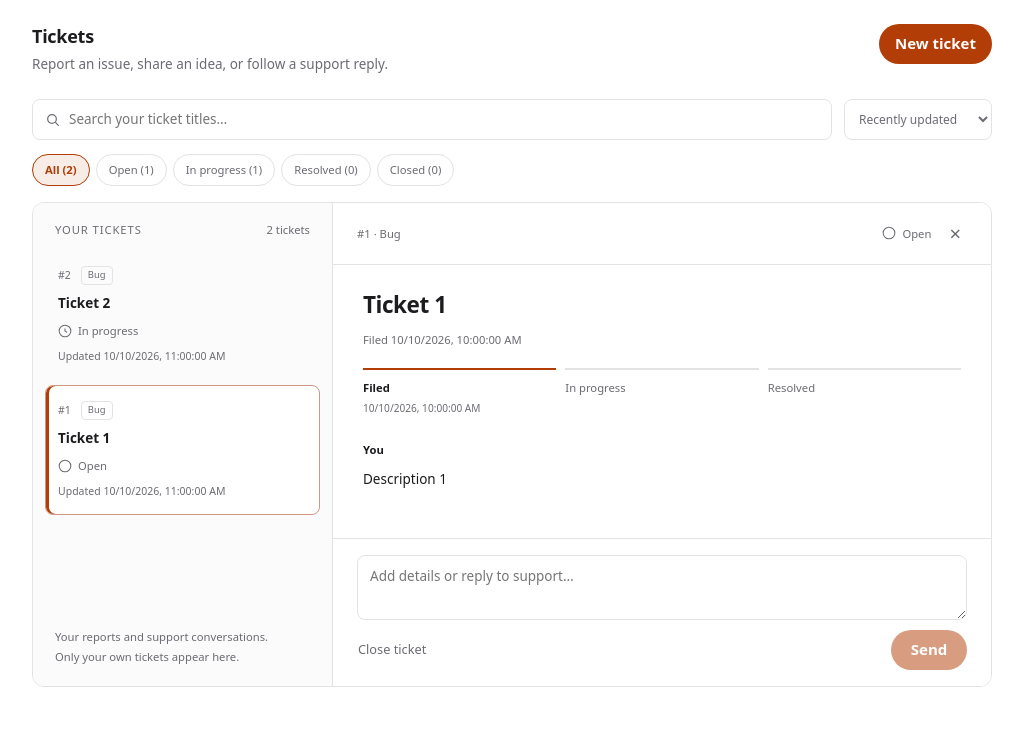
TicketsView › loads an unread update on the selected ticket without clearing a reply
This screenshot has width=1024, height=742.
Type "A reply in progress" into the text box named "Reply" at (662, 587), box [357, 554, 967, 620]
Wait 30000 ms
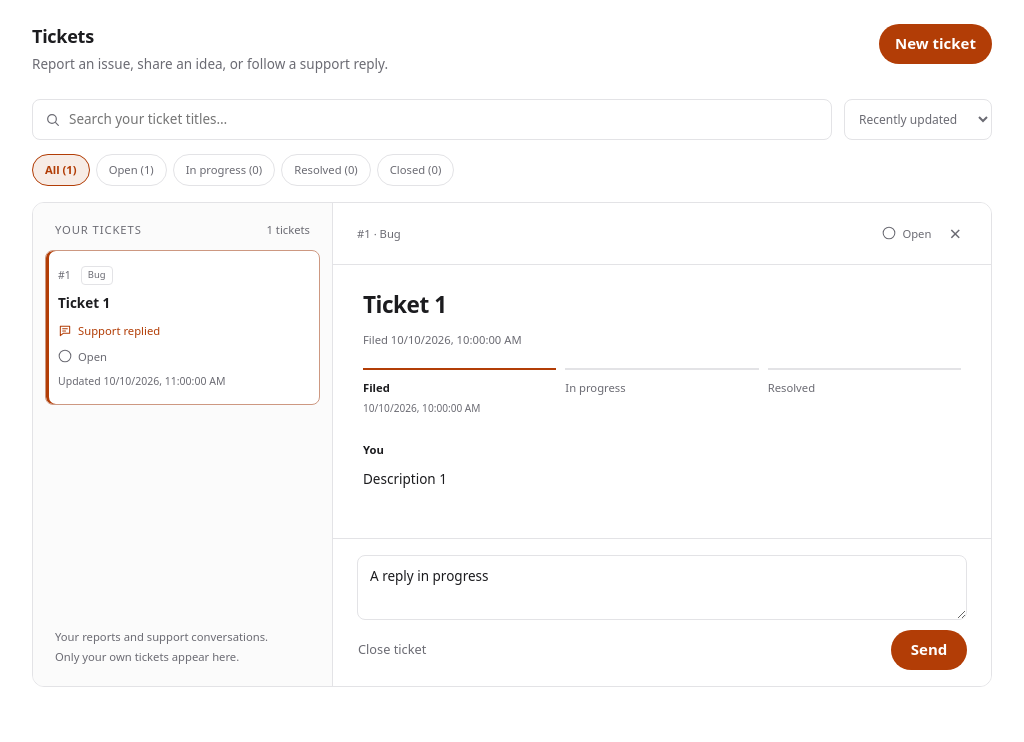
Click the button with class "ticket-row" at (97, 275), box [45, 250, 320, 406]
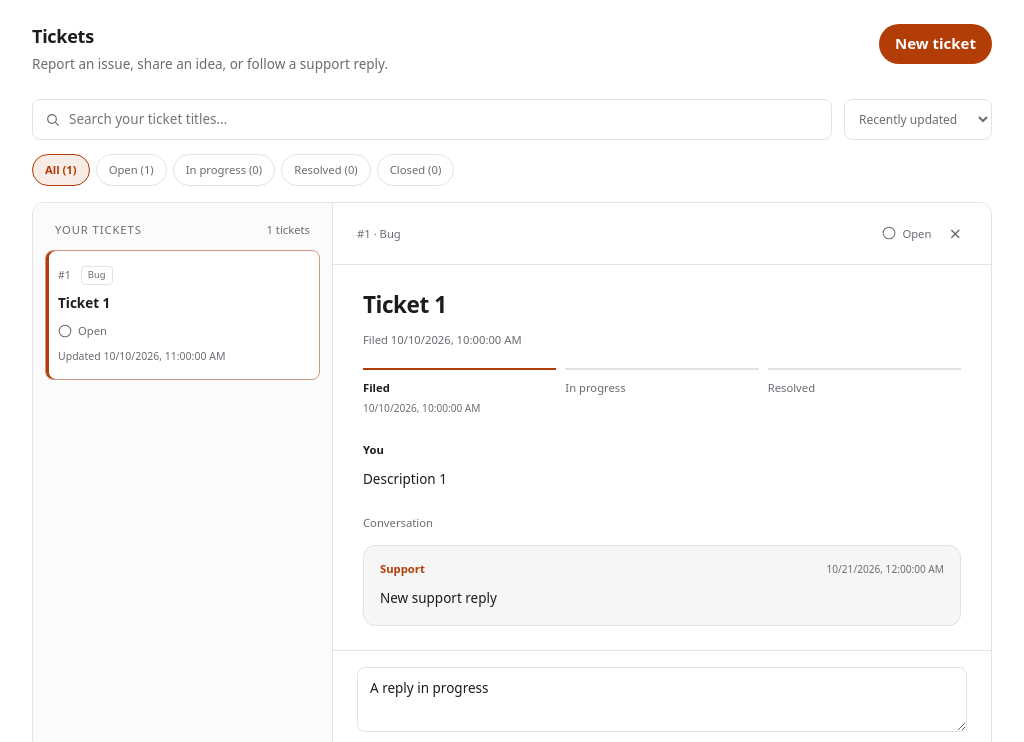
Now the list with class "thread" shows "New support reply", box [380, 589, 497, 607]
